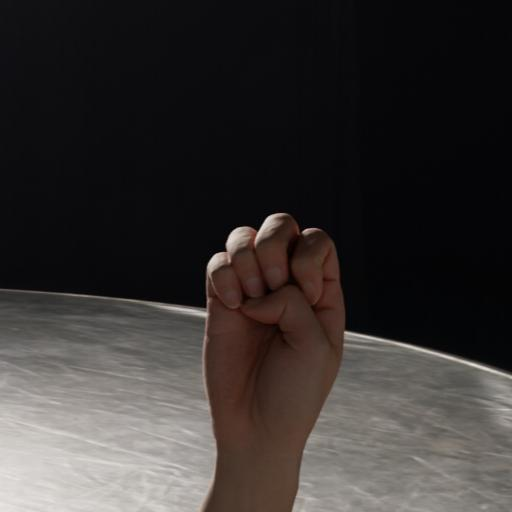E: (184, 157, 358, 498)
